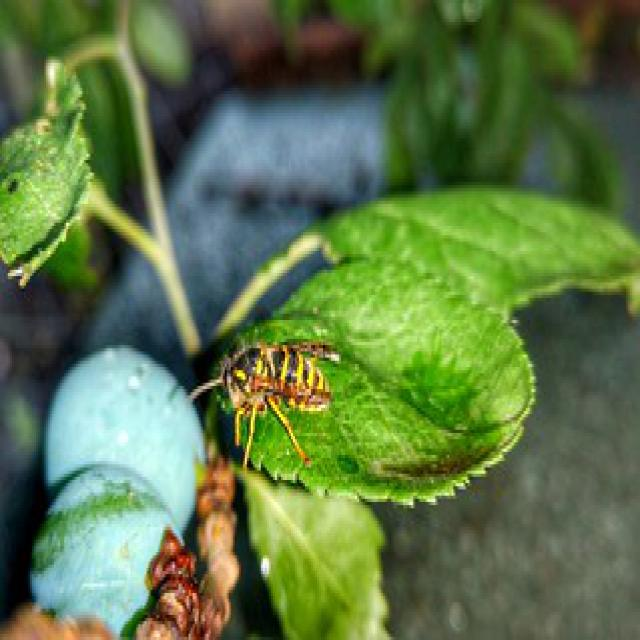Guepe: (182, 275, 352, 487)
